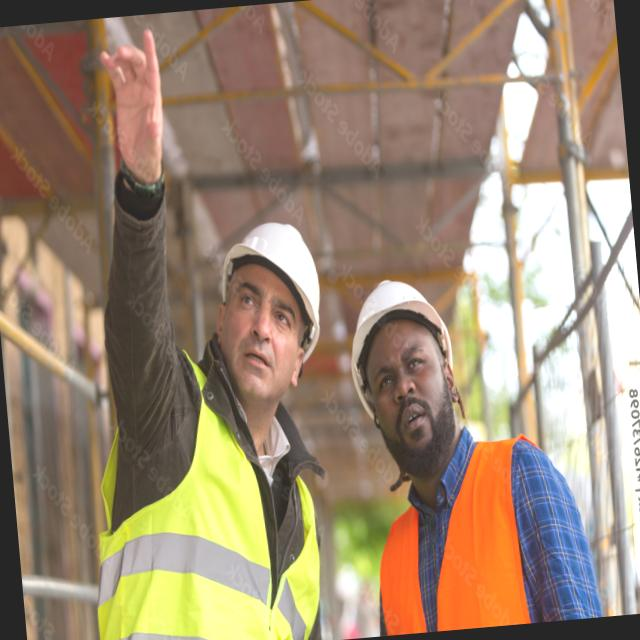helmet: (208, 212, 329, 353), (339, 257, 459, 386)
no-goggles: (352, 325, 449, 404), (219, 282, 306, 342)
vest: (69, 367, 336, 640), (364, 440, 534, 636)
